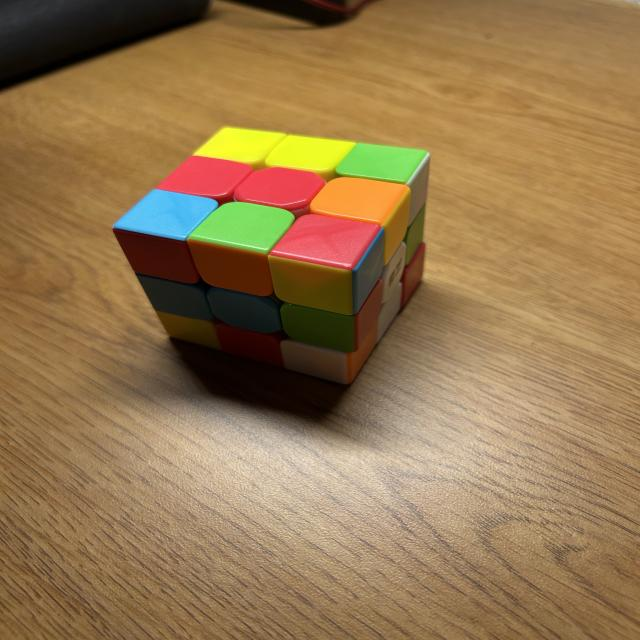Rubiks Cube: (110, 127, 431, 385)
